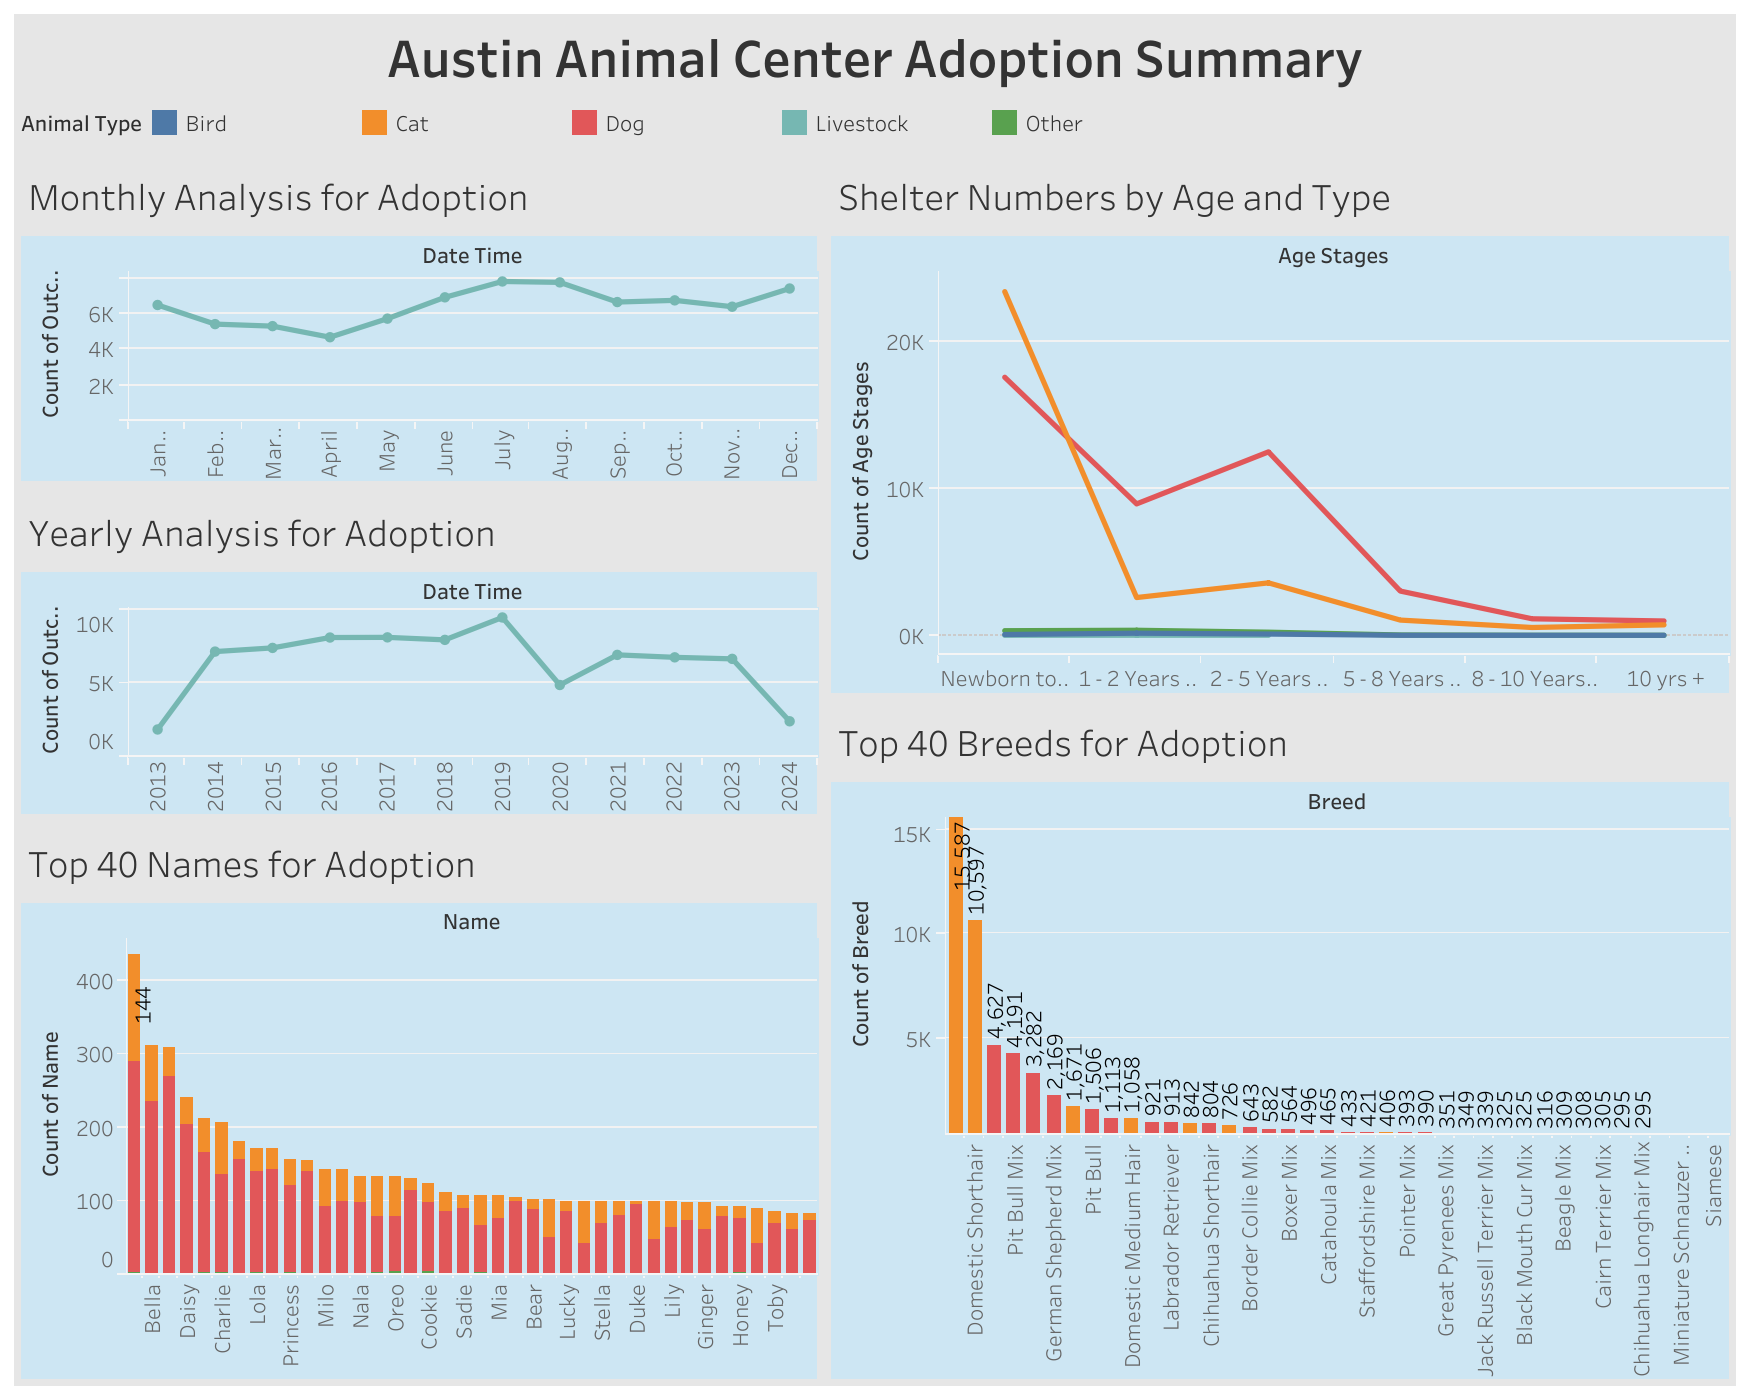

This screenshot's page, from the dashboard's own definition file:
{"tool":"tableau","page":{"name":"Most Popular Choices for Adoption by Name, Age, and Breed","canvas":[1000,800],"ordinal":0},"visuals":[{"type":"title","box":[8,8,984,48]},{"type":"legend","title":"Shelter Numbers by Age and Type","param":"[federated.0ueycgu19g66gg1a5edj819qvc6t].[none:Animal Type:nk]","box":[8,56,984,32]},{"type":"worksheet","title":"Monthly Analysis for","mark":"Automatic","rows":["Outcome Type"],"cols":["DateTime"],"box":[8,88,463,192]},{"type":"worksheet","title":"Shelter Numbers by Age and Type","mark":"Line","rows":["Age Stages"],"cols":["Age Stages"],"box":[471,88,521,312]},{"type":"worksheet","title":"Yearly Analysis for","mark":"Automatic","rows":["Outcome Type"],"cols":["DateTime"],"box":[8,280,463,189.5]},{"type":"worksheet","title":"Top 40 Breeds","mark":"Bar","rows":["Breed"],"cols":["Breed"],"box":[471,400,521,392]},{"type":"worksheet","title":"Top 40 Names","mark":"Automatic","rows":["Name"],"cols":["Name"],"box":[8,469.5,463,322.5]}]}

Visuals, with their boxes in screenshot pixels (x1, y1, x2, y2), scaled from the page's 1000x800 canvas onto the 1748x1398 screenshot:
title: rect(14, 14, 1734, 98)
"Shelter Numbers by Age and Type" legend: rect(14, 98, 1734, 154)
"Monthly Analysis for" worksheet: rect(14, 154, 823, 489)
"Shelter Numbers by Age and Type" worksheet (Line marks): rect(823, 154, 1734, 699)
"Yearly Analysis for" worksheet: rect(14, 489, 823, 820)
"Top 40 Breeds" worksheet (Bar marks): rect(823, 699, 1734, 1384)
"Top 40 Names" worksheet: rect(14, 820, 823, 1384)
